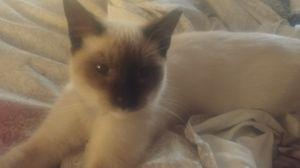siamese: (61, 1, 184, 126)
